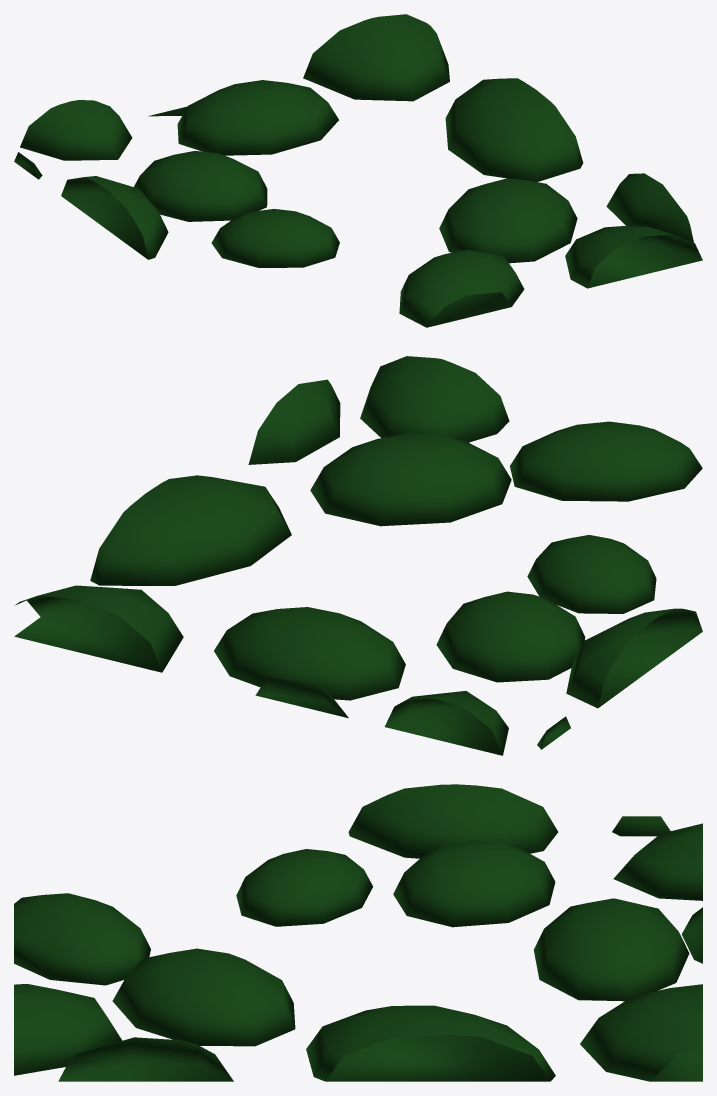
3 views of the same model, one above another, from view 1: azimuth 30°, elevation 25°; view 2: azimuth 150°, elevation 25°; view 3: azimuth 270°, elevation 25° (orthographic). The views are drawn at different scales.
Parts seen in each view (by area): view 1: shapesz-t223; view 2: shapesz-t223; view 3: shapesz-t223.
Boxes of the visible parts, <box> form: shapesz-t223: <box>14,14,702,327</box>; shapesz-t223: <box>14,356,702,755</box>; shapesz-t223: <box>14,784,702,1081</box>.
Bounding box in the file's own units: 2 × 0.195 × 2.33.
